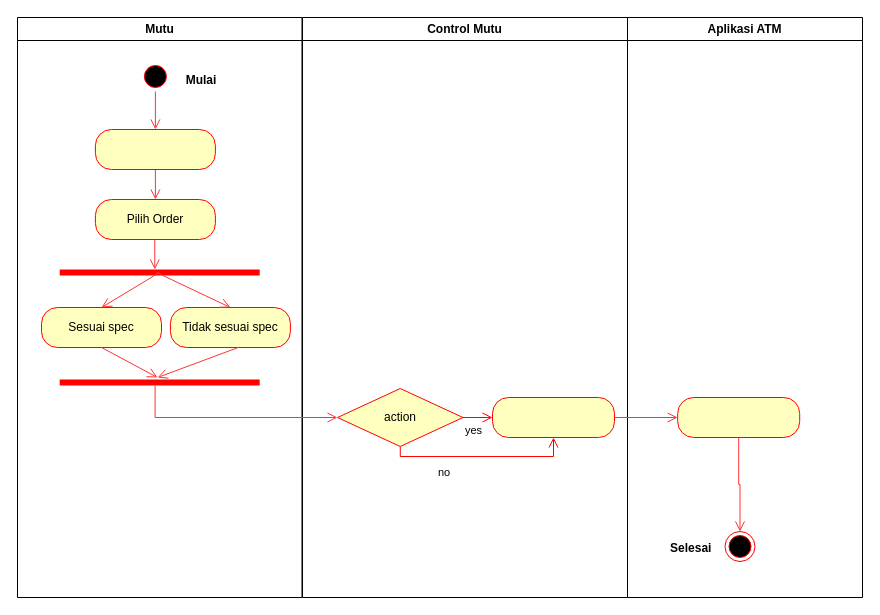
The diagram is 880 pixels wide and 615 high, and some of its shapes have lost their labels. The shapes that lost their labels are listed below. From the top down, each one's centre as x and y in pixels, then its label:
At (x=154, y=149): "List Data Barang Material Masuk".
At (x=553, y=417): "Notif ke Pengadaan".
At (x=738, y=417): "Menu List Data BMM".
